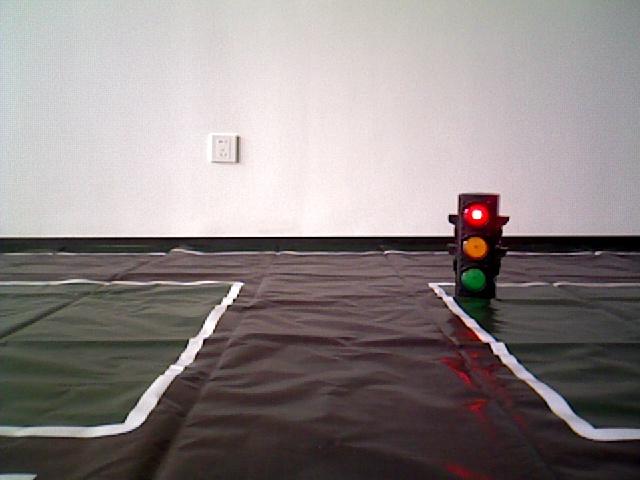red: (458, 194, 497, 296)
